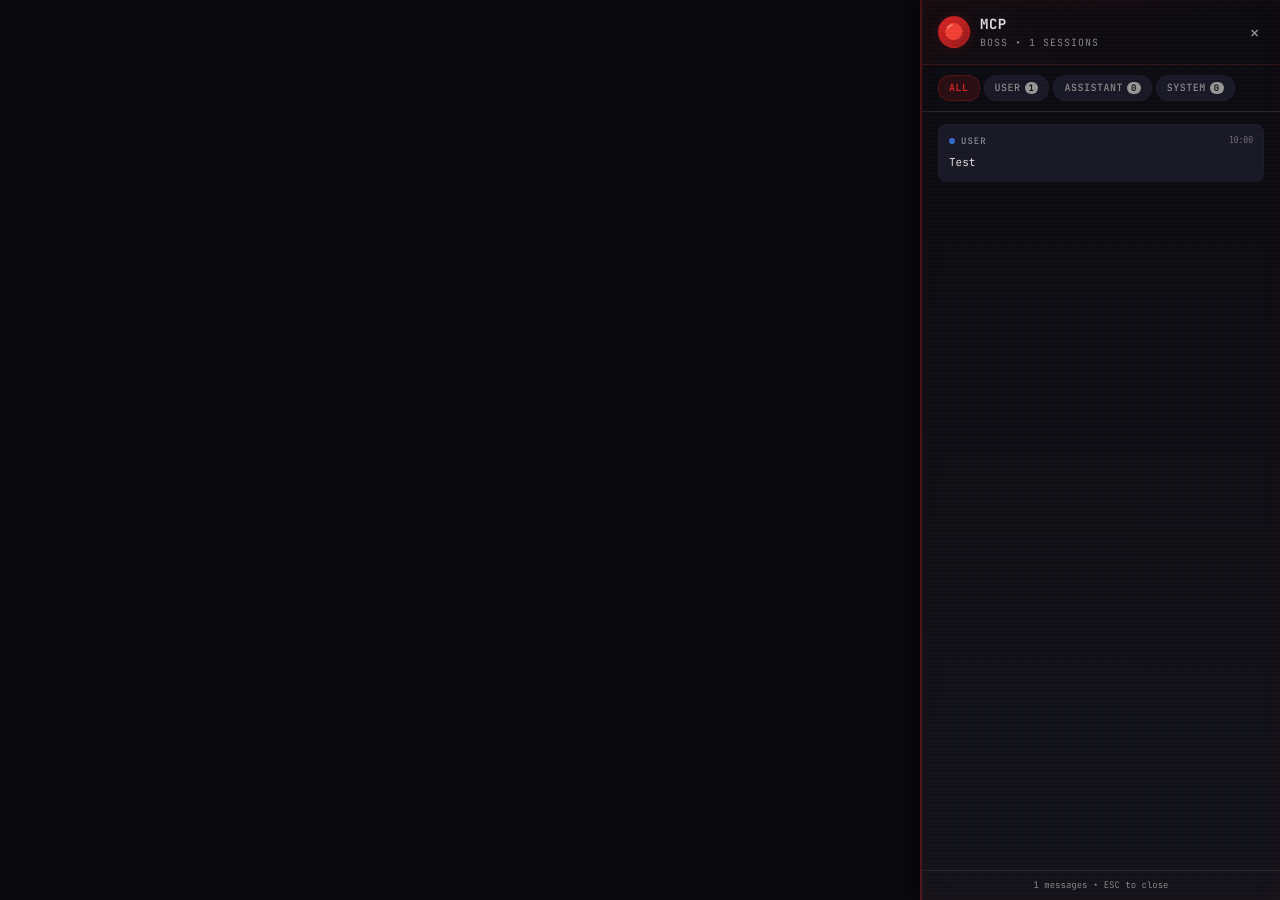
Scenario: AgentMessagePanel › displays empty state when no messages match filter
Check: the text "Test" is shown, box x1=949 y1=155 x2=975 y2=169
# Filter to show only system messages (should be empty)
Click the tab "system0" at point(1195, 88), box x1=1156 y1=75 x2=1235 y2=100
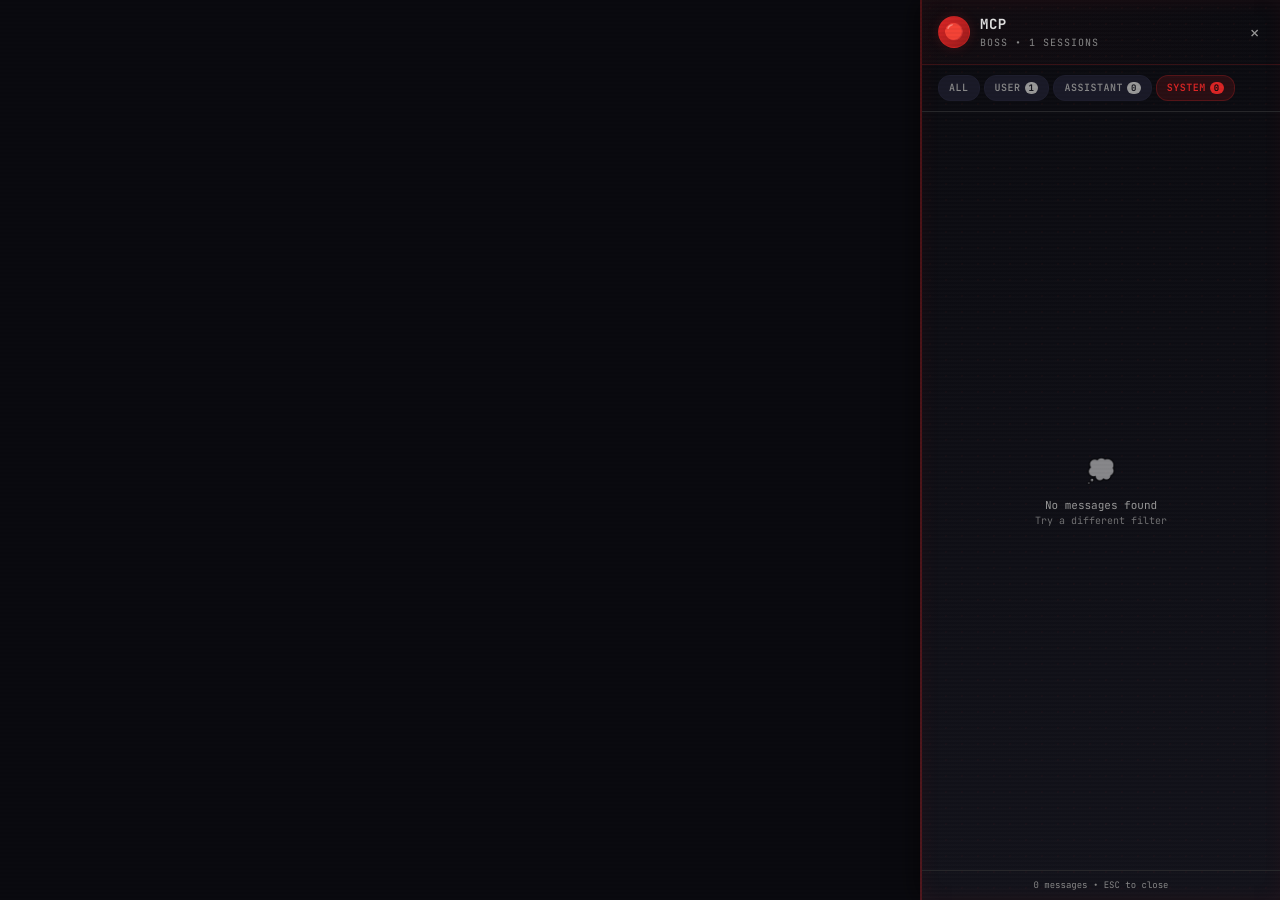
Check: the text "No messages found" is shown, box x1=1045 y1=498 x2=1157 y2=512
Check: the text "Try a different filter" is shown, box x1=1035 y1=513 x2=1167 y2=528
